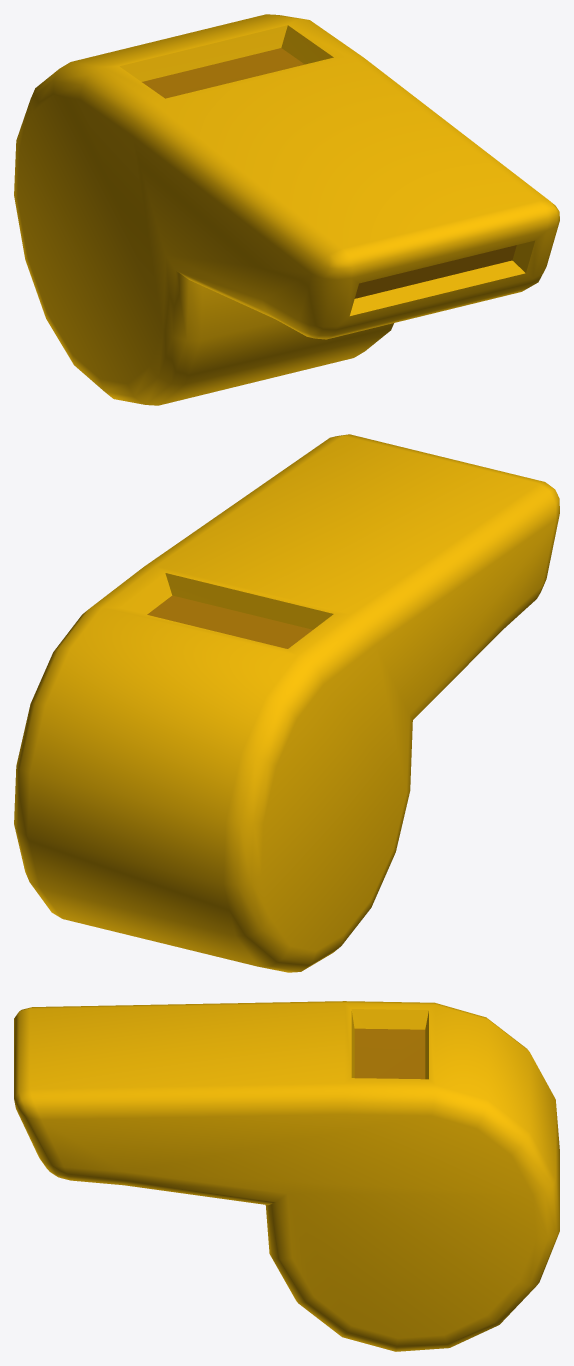
The model's file is Referee Whistle.fbx.
3 renders of one model, top to bottom at view 1: azimuth 30°, elevation 25°; view 2: azimuth 150°, elevation 25°; view 3: azimuth 270°, elevation 25°, orthographic. The views are drawn at different scales.
Parts seen in each view (by area): view 1: Referee Whistle; view 2: Referee Whistle; view 3: Referee Whistle.
Boxes of the visible parts, <box> form: Referee Whistle: <box>14,14,559,405</box>; Referee Whistle: <box>14,434,559,972</box>; Referee Whistle: <box>14,1001,559,1351</box>.
Bounding box in the file's own units: 0.0323 × 0.0401 × 0.0746.
